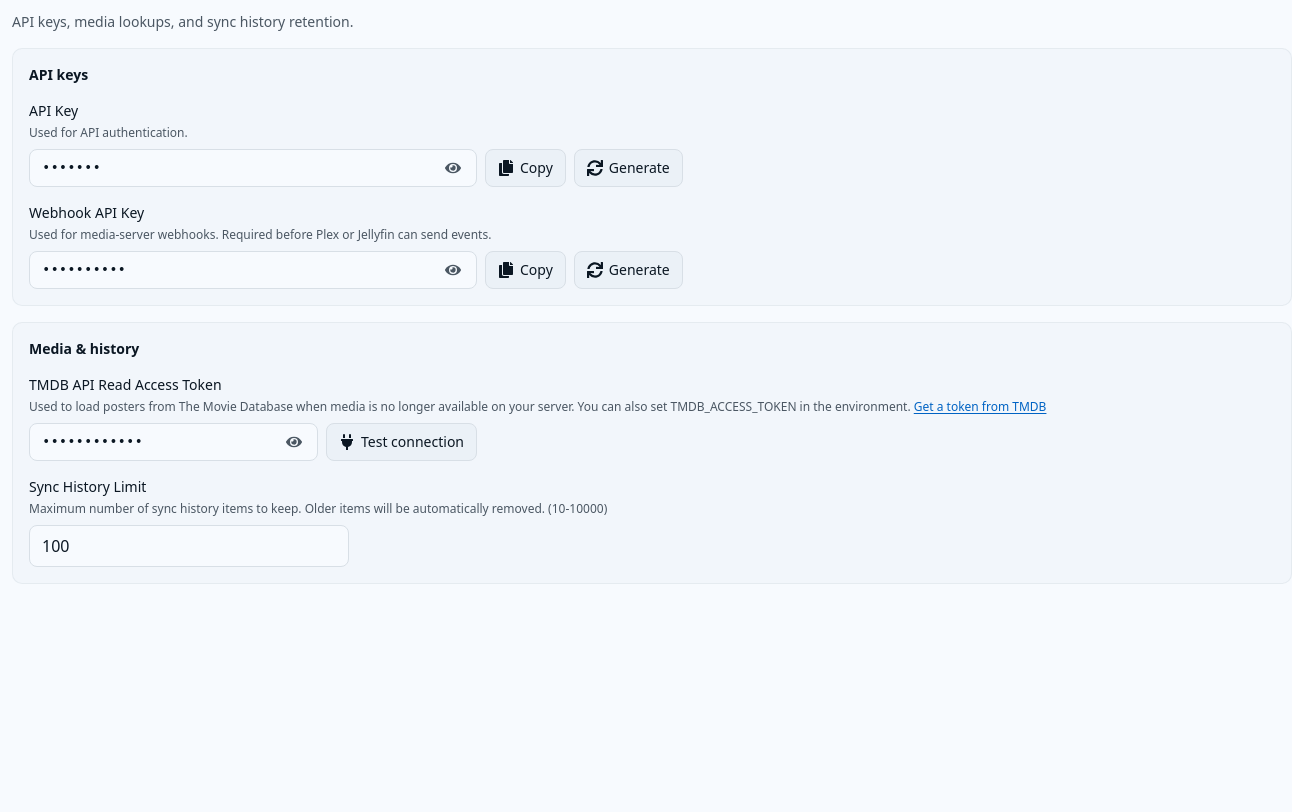
Test case: GeneralSettingsTab › toggles TMDB token visibility
Click the button named "Show TMDB access token" at (294, 442), box [274, 422, 314, 462]
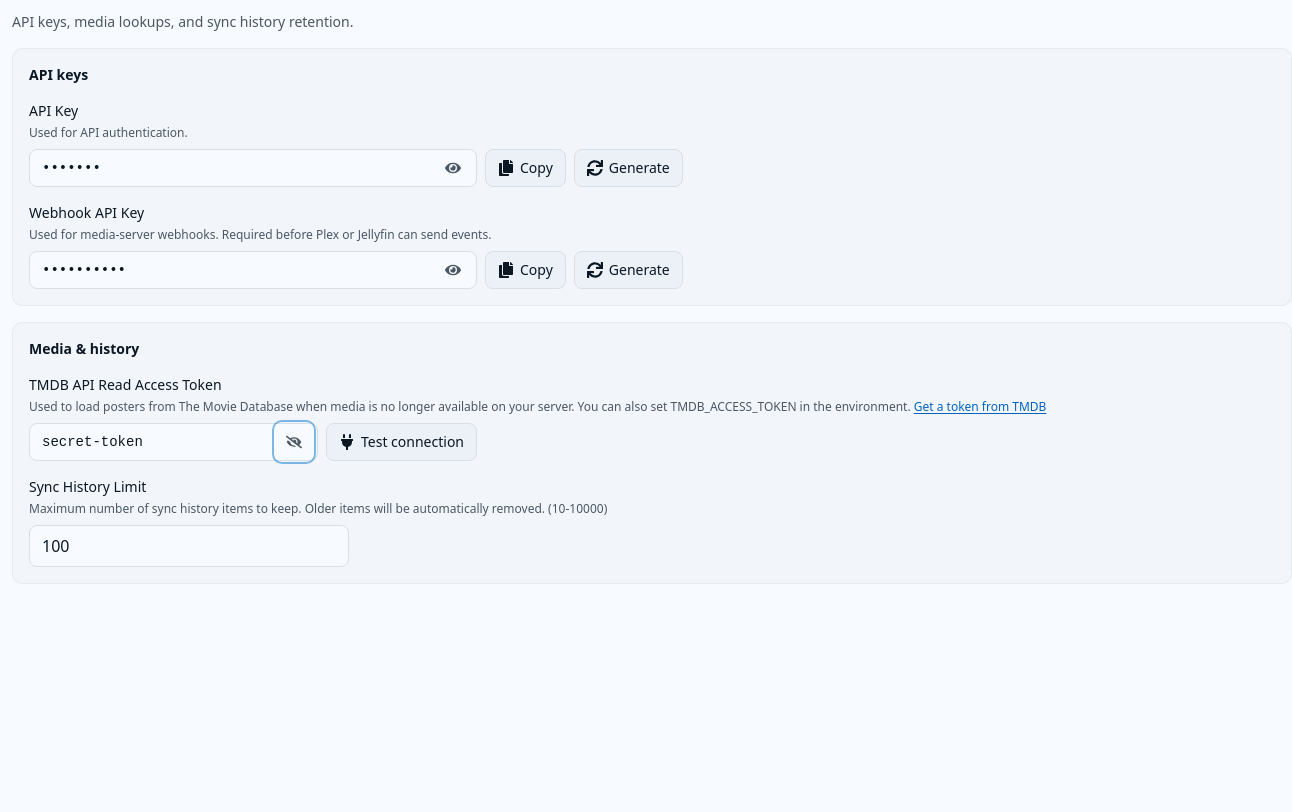
Result: the field labelled "TMDB API Read Access Token" shows its text at [29, 423, 318, 461]
Click the button named "Hide TMDB access token" at (294, 442), box [274, 422, 314, 462]
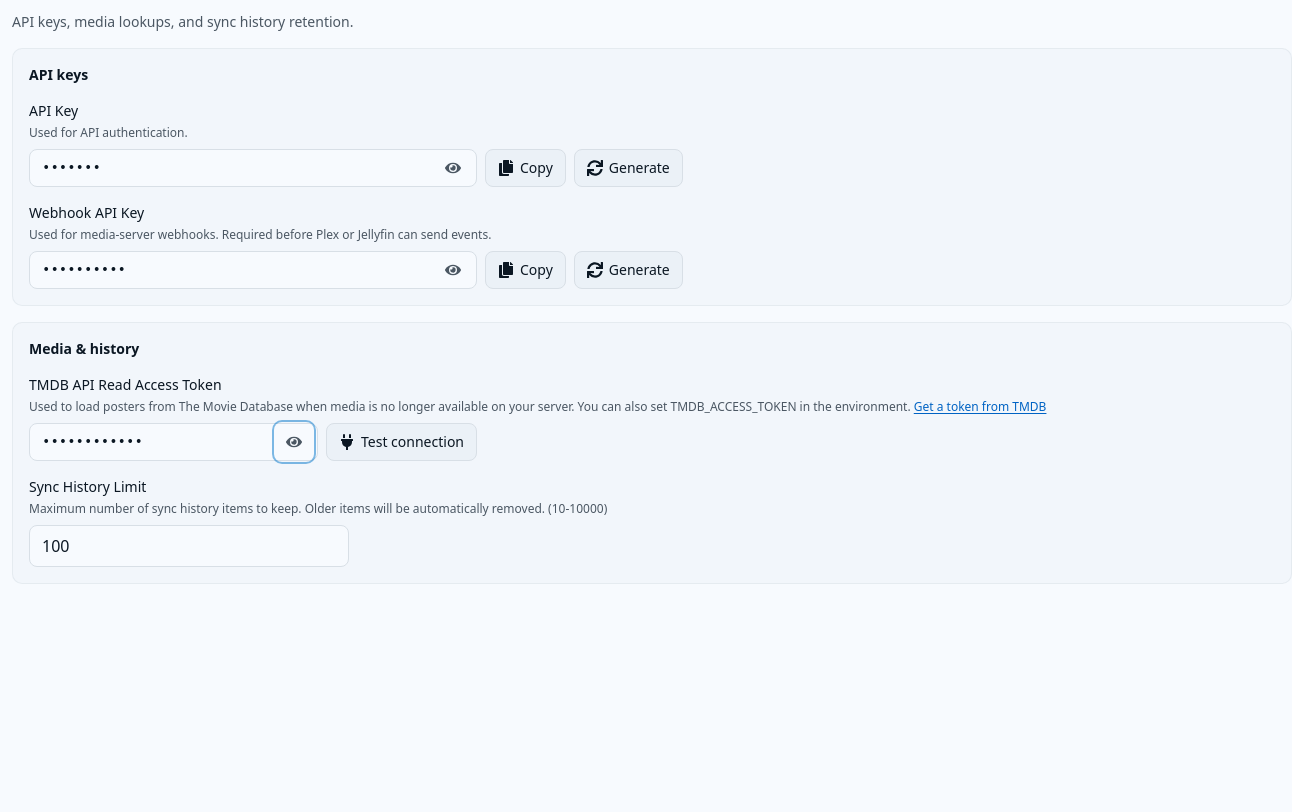
Result: the password field labelled "TMDB API Read Access Token" hides its text at [29, 423, 318, 461]
